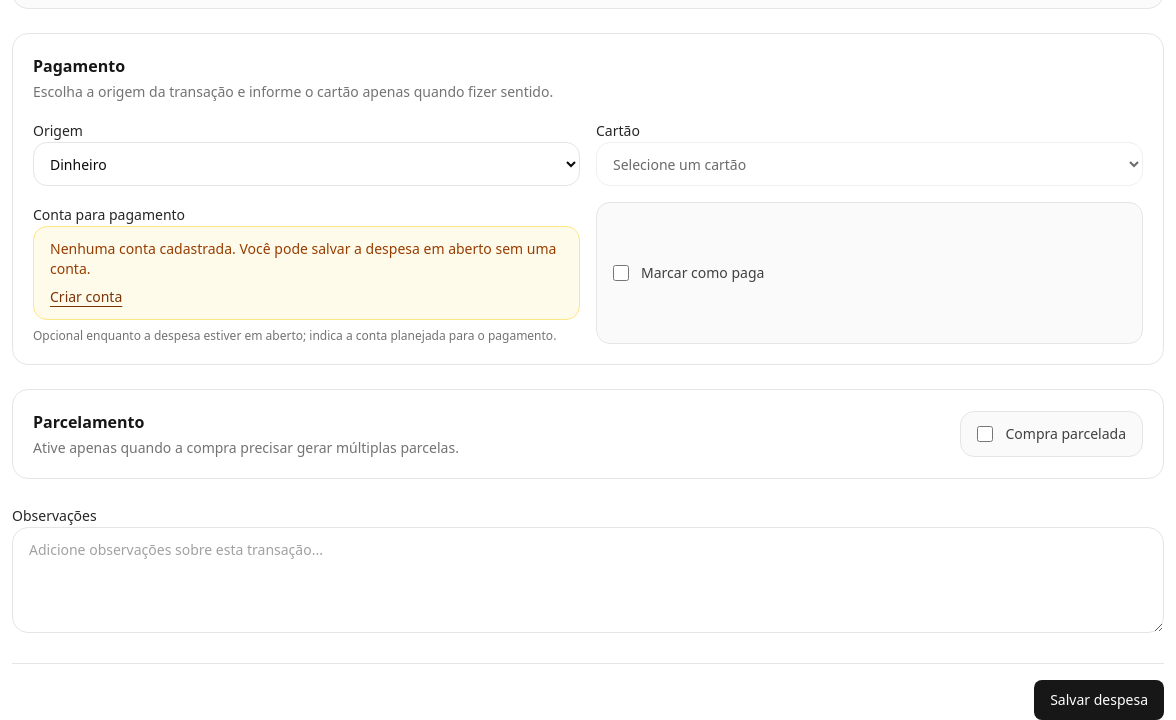
Test: TransactionCreateForm › shows installment fields only when the checkbox is enabled
(page scrolled)
Click the checkbox labelled "Compra parcelada": [986, 434] box [978,426,994,442]
(page scrolled)
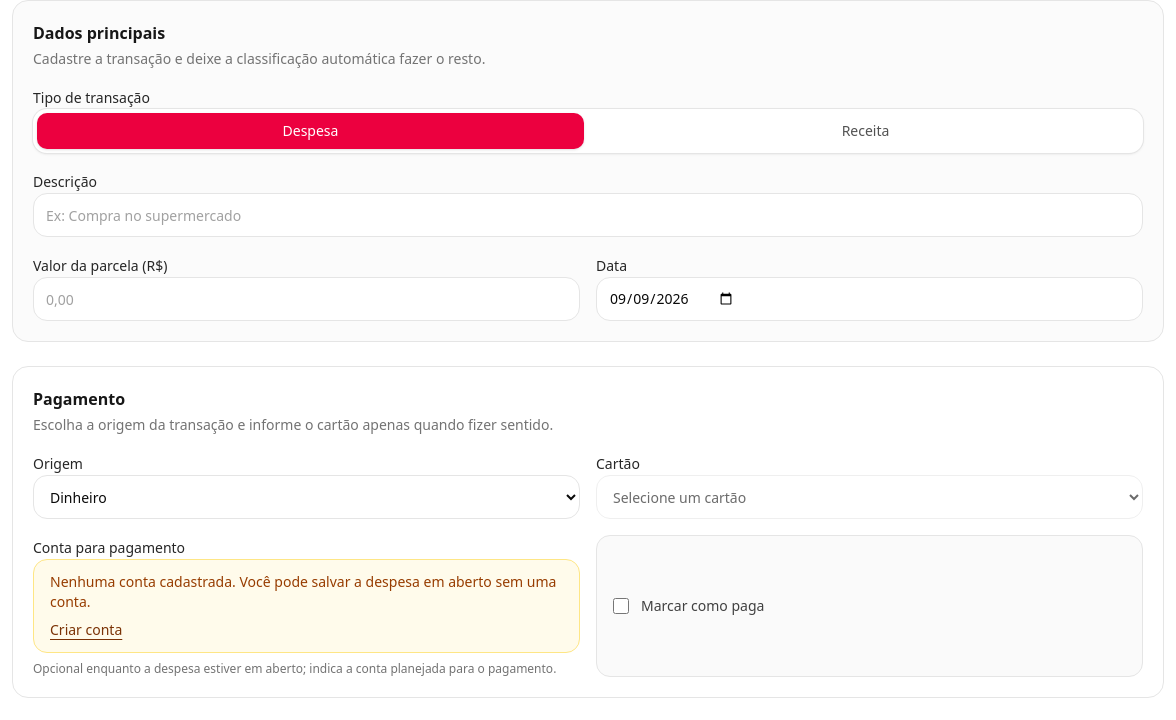
Expected: the text "Valor da parcela (R$)" is shown, [33,256,167,275]
